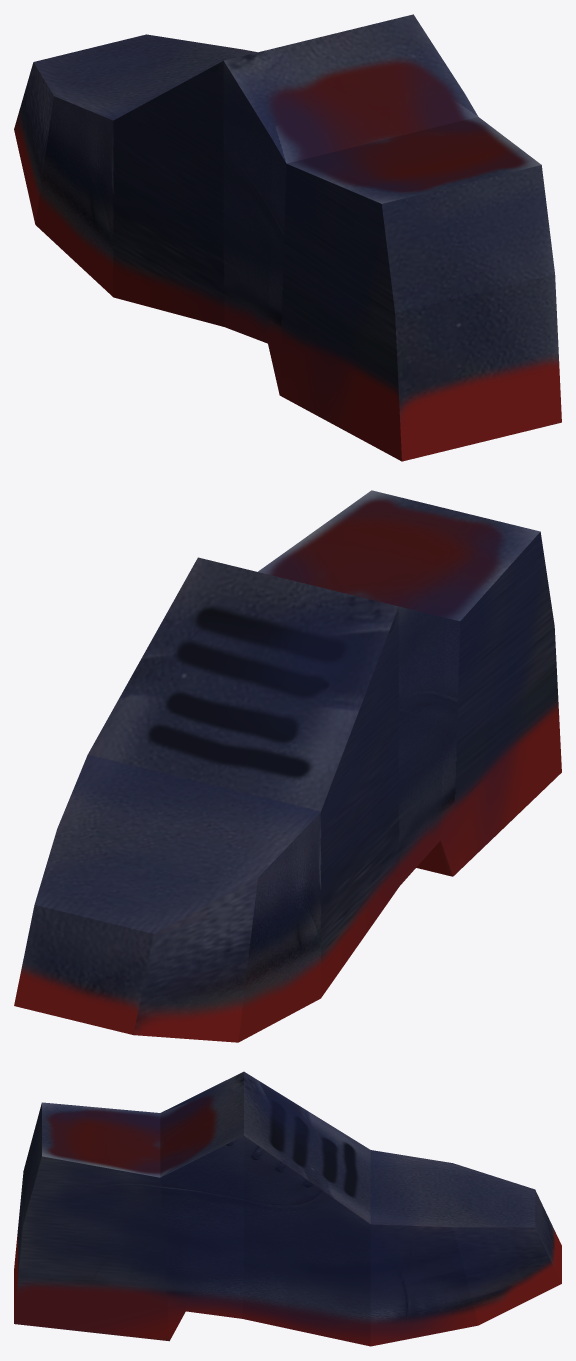
File: shoe2.fbx
The picture shows the model from 3 angles, top to bottom: view 1: azimuth 30°, elevation 25°; view 2: azimuth 150°, elevation 25°; view 3: azimuth 270°, elevation 25°; orthographic projection. The views are drawn at different scales.
Parts seen in each view (by area): view 1: Cube; view 2: Cube; view 3: Cube.
Boxes of the visible parts, x1,y1,x2,y2 form: Cube: (14, 14, 561, 461); Cube: (14, 490, 561, 1042); Cube: (14, 1071, 561, 1346).
Size of the model in its own units: 111 by 143 by 344.
